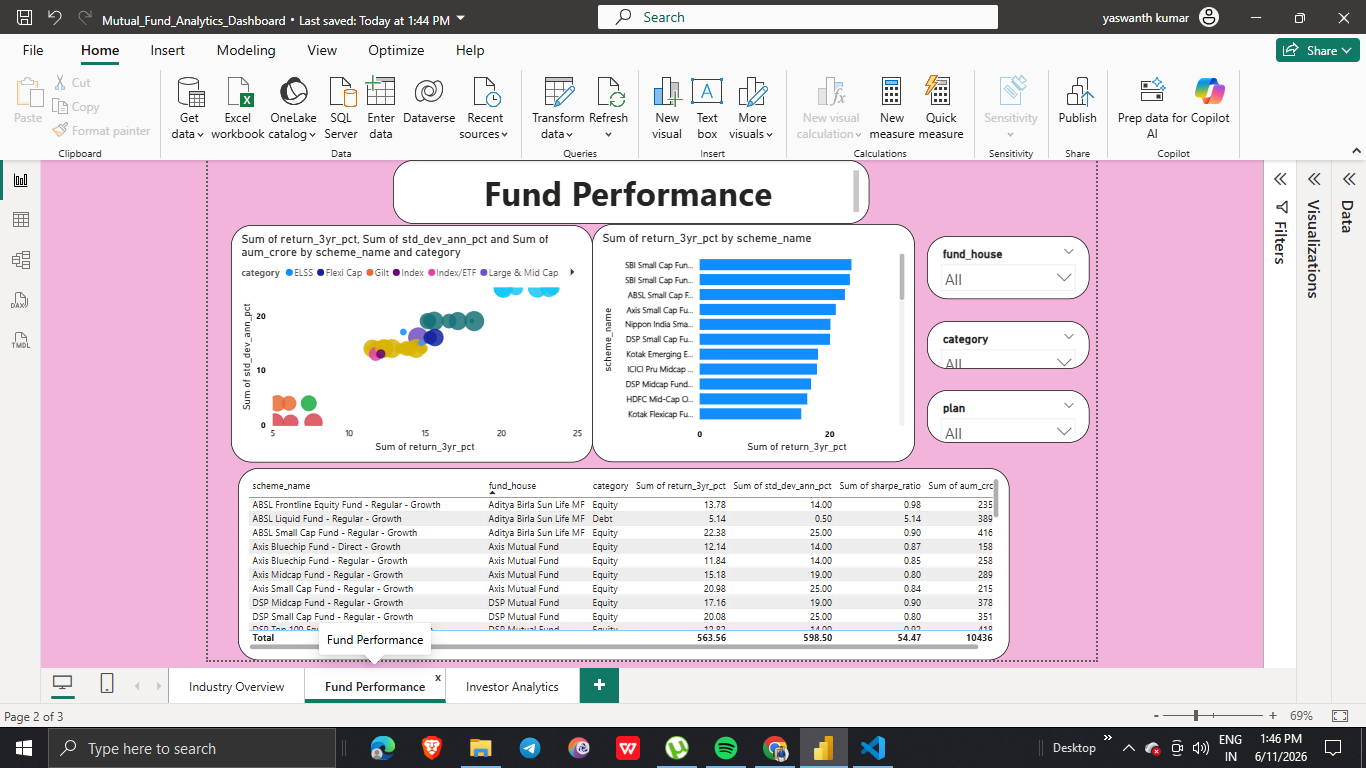

The dashboard page shown, as its layout file describes it:
{"tool":"powerbi","page":{"name":"Fund Performance","canvas":[1280,720],"ordinal":1},"visuals":[{"type":"scatterChart","fields":{"X":["Sum(07_scheme_performance.return_3yr_pct)"],"Y":["Sum(07_scheme_performance.std_dev_ann_pct)"],"Size":["Sum(07_scheme_performance.aum_crore)"],"Series":["07_scheme_performance.category"],"Category":["07_scheme_performance.scheme_name"]},"box":[32.8,94,520.7,341.6],"z":0},{"type":"tableEx","fields":{"Values":["01_fund_master_cleaned.scheme_name","01_fund_master_cleaned.fund_house","01_fund_master_cleaned.category","Sum(07_scheme_performance.return_3yr_pct)","Sum(07_scheme_performance.std_dev_ann_pct)","Sum(07_scheme_performance.sharpe_ratio)","Sum(07_scheme_performance.aum_crore)"]},"box":[43.3,443.1,1111.4,277.5],"z":1},{"type":"slicer","fields":{"Values":["01_fund_master_cleaned.fund_house"]},"box":[1035.3,108.9,234.2,91],"z":2},{"type":"slicer","fields":{"Values":["01_fund_master_cleaned.plan"]},"box":[1035.3,331.2,234.2,76.1],"z":3},{"type":"slicer","fields":{"Values":["01_fund_master_cleaned.category"]},"box":[1035.3,231.2,234.2,68.6],"z":4},{"type":"clusteredBarChart","fields":{"Y":["Sum(07_scheme_performance.return_3yr_pct)"],"Category":["01_fund_master_cleaned.scheme_name"]},"box":[553.5,92.5,465.5,343.1],"z":5},{"type":"textbox","box":[267,0,686.2,92.5],"z":6}]}

Visuals, with their boxes on the page's 1280x720 design canvas (x1, y1, x2, y2). These are canvas units, not pixel positions in the 1366x768 screenshot, which may show the page scaled, cropped or inside an application window:
scatterChart - Sum(07_scheme_performance.return_3yr_pct) x Sum(07_scheme_performance.std_dev_ann_pct): 33/94/554/436
tableEx - 01_fund_master_cleaned.scheme_name x 01_fund_master_cleaned.fund_house: 43/443/1155/721
slicer - 01_fund_master_cleaned.fund_house: 1035/109/1270/200
slicer - 01_fund_master_cleaned.plan: 1035/331/1270/407
slicer - 01_fund_master_cleaned.category: 1035/231/1270/300
clusteredBarChart - Sum(07_scheme_performance.return_3yr_pct) x 01_fund_master_cleaned.scheme_name: 554/92/1019/436
textbox: 267/0/953/92
